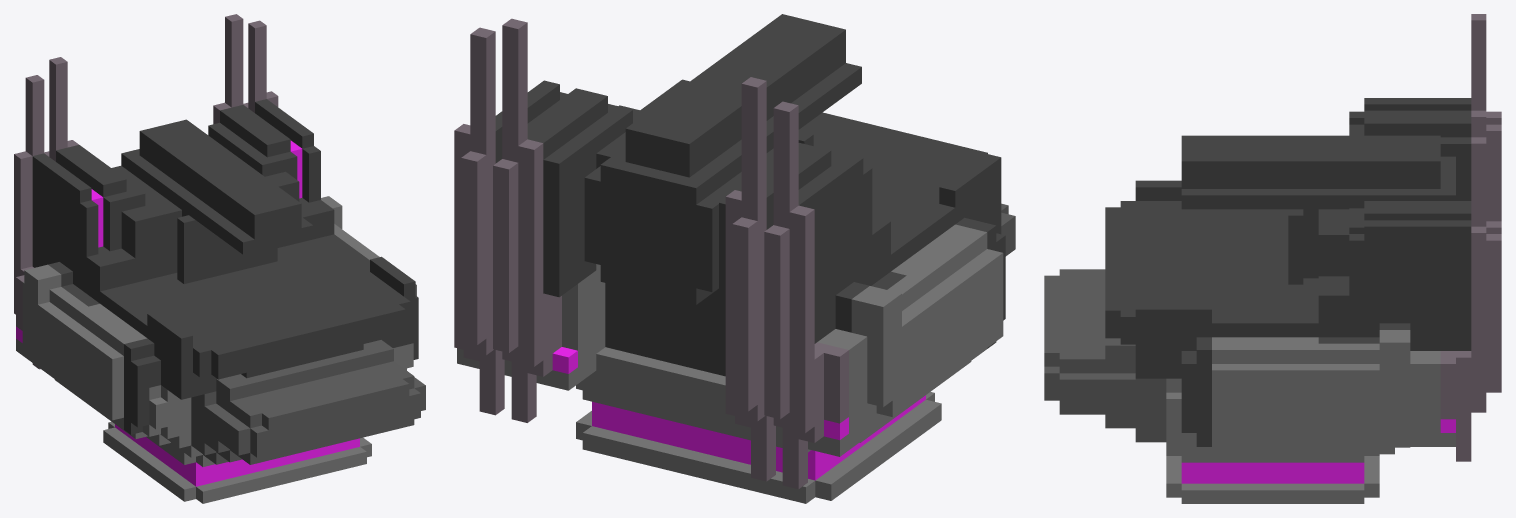
The model's file is _g_generator_2-1.obj.
3 views of the same model, side by side, from view 1: azimuth 30°, elevation 25°; view 2: azimuth 150°, elevation 25°; view 3: azimuth 270°, elevation 25° (orthographic). The views are drawn at different scales.
Bounding box in the file's own units: 2.6 × 2.8 × 3.
